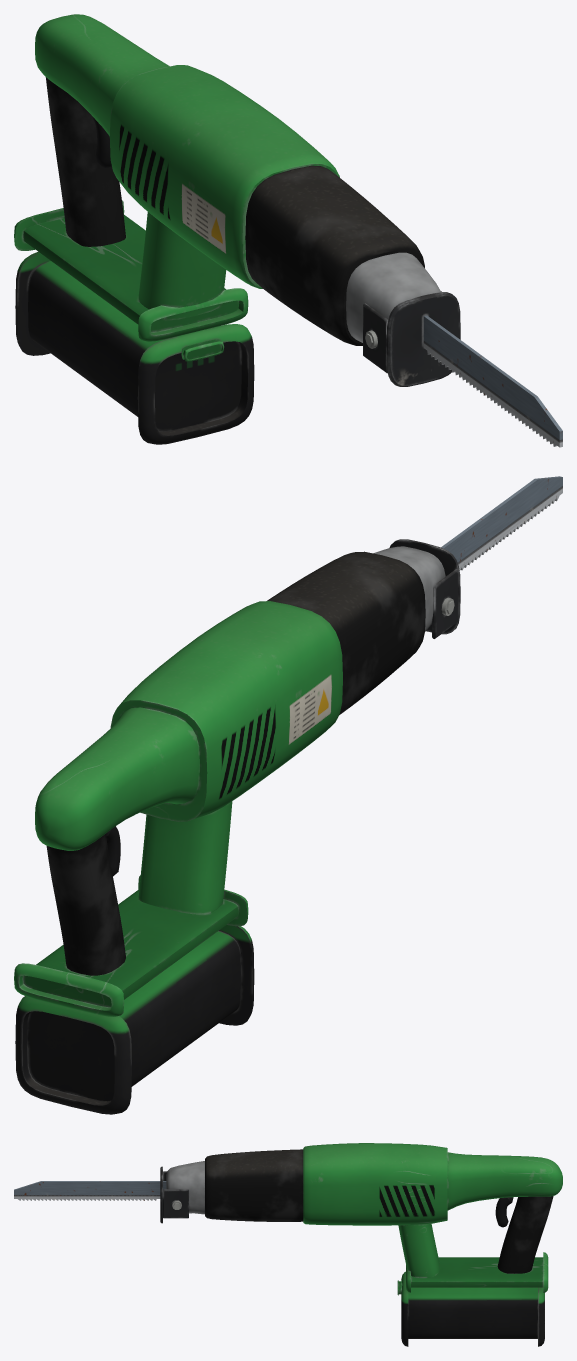
File: Saw.fbx
3 views of the same model, one above another, from view 1: azimuth 30°, elevation 25°; view 2: azimuth 150°, elevation 25°; view 3: azimuth 270°, elevation 25° (orthographic). The views are drawn at different scales.
Visible parts, largest first — view 1: Saw; view 2: Saw; view 3: Saw.
Boxes of the visible parts, x1=… form: Saw: x1=14, y1=14, x2=562, y2=447; Saw: x1=14, y1=476, x2=562, y2=1114; Saw: x1=14, y1=1143, x2=562, y2=1346.
Bounding box in the file's own units: 0.3792 × 1.1 × 2.92.
Materials: 1 (1 with a texture image).
